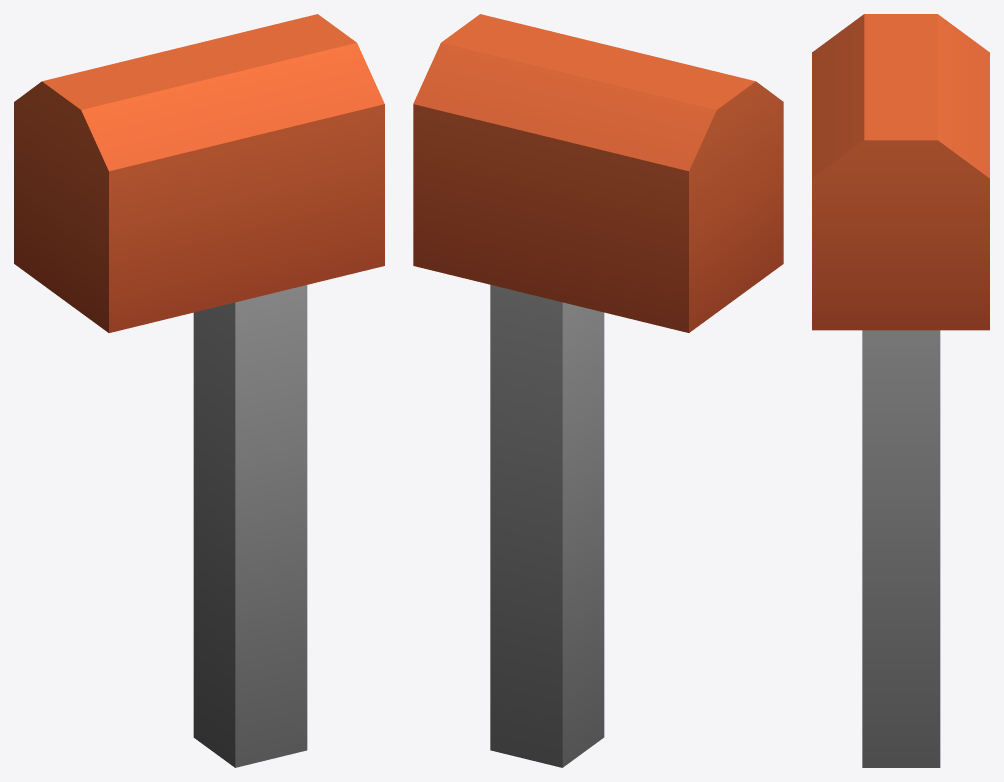
File: postbox.fbx
The picture shows the model from 3 angles, left to right: view 1: azimuth 30°, elevation 25°; view 2: azimuth 150°, elevation 25°; view 3: azimuth 270°, elevation 25°; orthographic projection. The views are drawn at different scales.
Visible parts, largest first — view 1: postbox; view 2: postbox; view 3: postbox.
Part boxes in pixels (bbox=[...]): postbox: bbox=[14, 14, 384, 767]; postbox: bbox=[413, 14, 783, 767]; postbox: bbox=[812, 14, 989, 767].
Size of the model in its own units: 80.49 by 194 by 47.91.
Materials: 1 (1 with a texture image).
